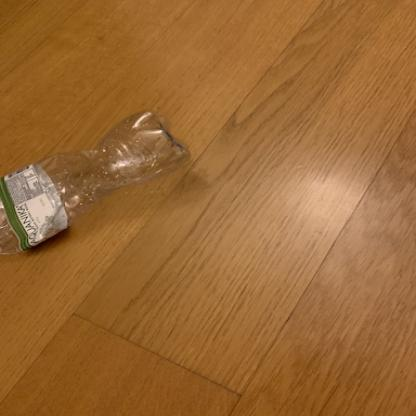trash: (2, 105, 198, 255)
